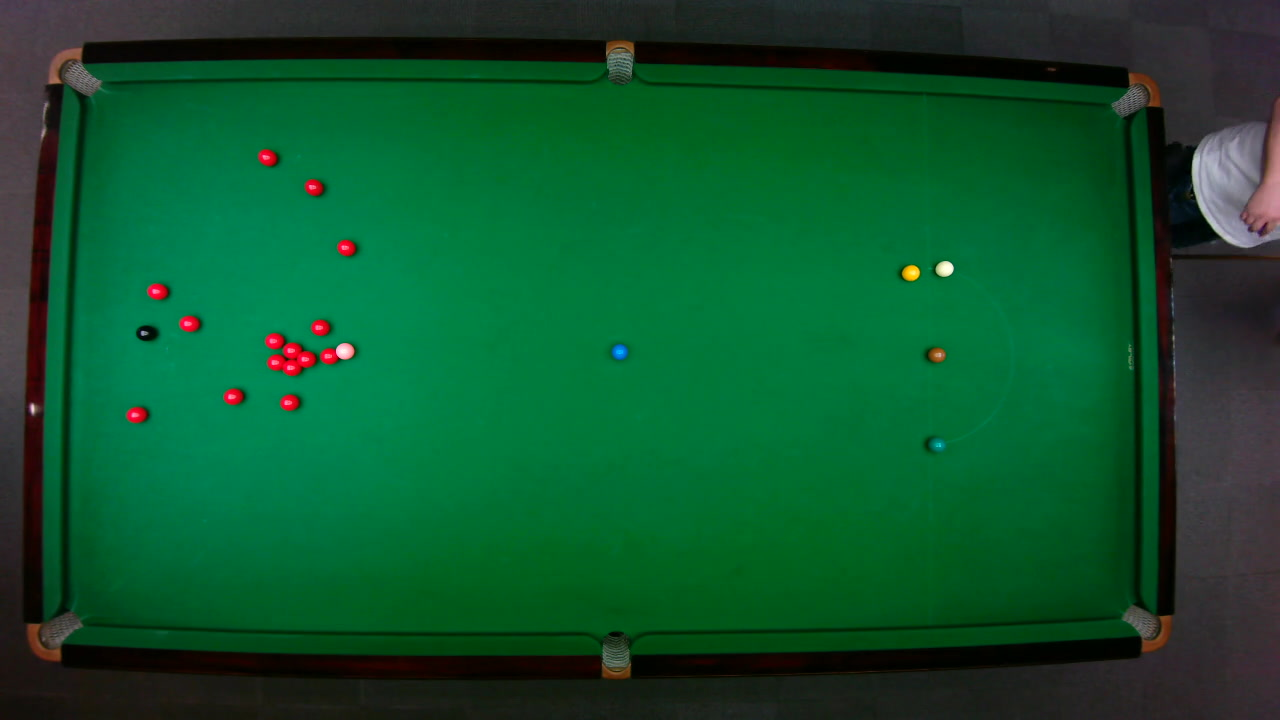bag: (25, 609, 83, 662), (45, 46, 102, 96), (1119, 603, 1171, 652), (1108, 71, 1161, 118), (600, 629, 630, 680), (605, 38, 633, 85)
black: (134, 324, 156, 341)
blue: (610, 342, 628, 360)
brown: (926, 346, 946, 362)
green: (926, 435, 946, 452)
pink: (333, 341, 355, 360)
red: (145, 281, 169, 300), (294, 348, 316, 368), (221, 386, 244, 405), (302, 177, 324, 196), (278, 392, 300, 411), (256, 147, 278, 166), (125, 405, 148, 423), (177, 314, 200, 332), (265, 352, 286, 371), (263, 331, 285, 349), (281, 341, 303, 358), (335, 238, 355, 256), (309, 318, 330, 335), (319, 346, 338, 364), (282, 361, 302, 376)
white: (933, 259, 954, 277)
yellow: (899, 263, 920, 281)
zone: (926, 266, 1013, 445)
